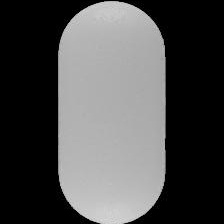68084-072: (0, 0, 224, 224)
